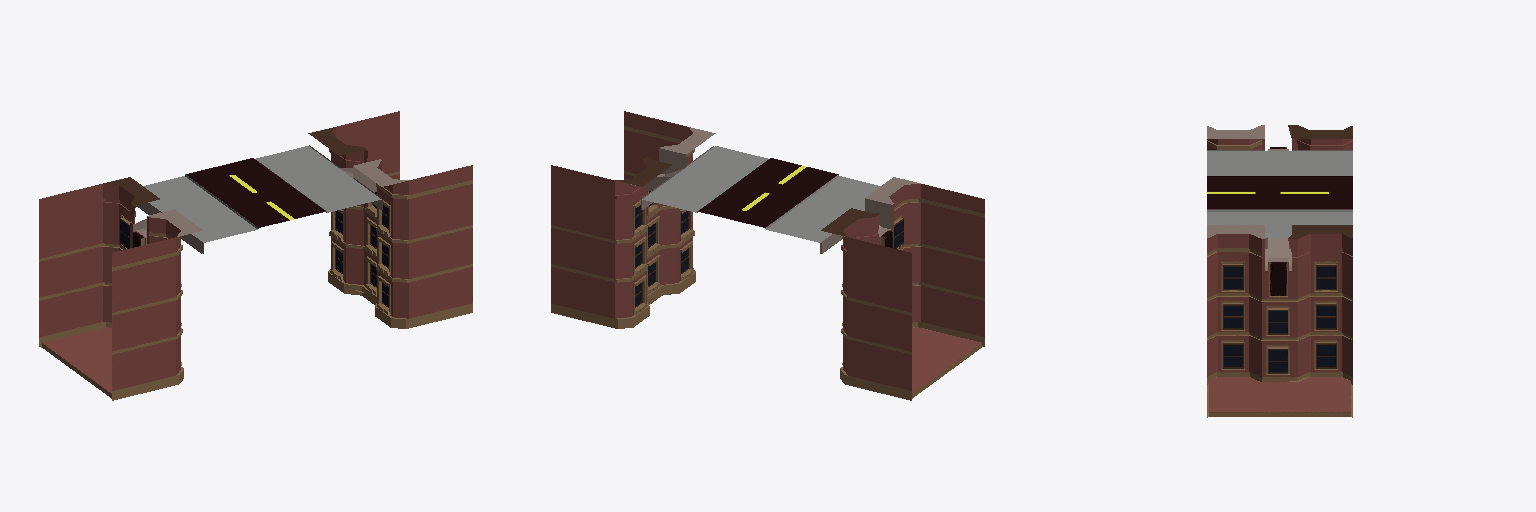
3 views of the same model, side by side, from view 1: azimuth 30°, elevation 25°; view 2: azimuth 150°, elevation 25°; view 3: azimuth 270°, elevation 25° (orthographic).
Visible parts, largest first — view 1: Chunk.001_Plane; view 2: Chunk.001_Plane; view 3: Chunk.001_Plane.
Part boxes in pixels (x1,y1,x2,y2): Chunk.001_Plane: (39,111,472,400); Chunk.001_Plane: (551,111,984,400); Chunk.001_Plane: (1207,125,1352,417).
Bounding box in the file's own units: 341 × 133 × 120.
1 materials, 1 textured.